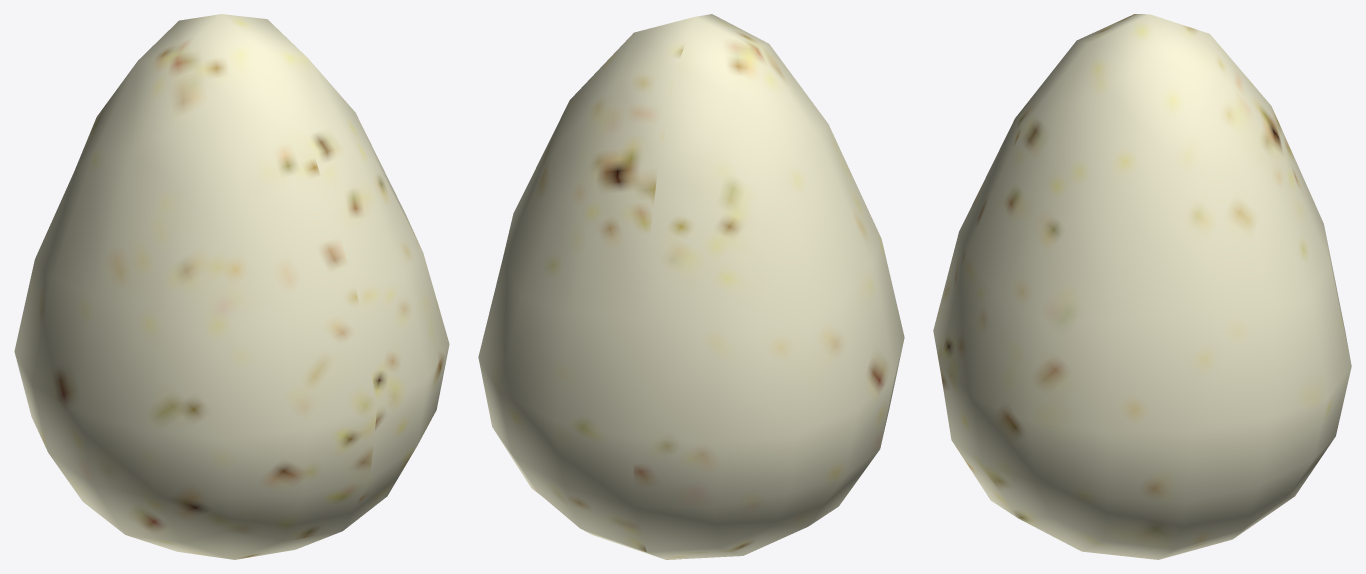
The model's file is SM_Props_BirdsEggs_03.obj.
The picture shows the model from 3 angles, left to right: view 1: azimuth 30°, elevation 25°; view 2: azimuth 150°, elevation 25°; view 3: azimuth 270°, elevation 25°; orthographic projection.
Parts seen in each view (by area): view 1: SM_Props_BirdsEggs_03_Mat_SwatchOverlay_Farm_Main_01_Inst; view 2: SM_Props_BirdsEggs_03_Mat_SwatchOverlay_Farm_Main_01_Inst; view 3: SM_Props_BirdsEggs_03_Mat_SwatchOverlay_Farm_Main_01_Inst.
Part boxes in pixels (<box>): SM_Props_BirdsEggs_03_Mat_SwatchOverlay_Farm_Main_01_Inst: <box>14,14,449,559</box>; SM_Props_BirdsEggs_03_Mat_SwatchOverlay_Farm_Main_01_Inst: <box>478,14,904,559</box>; SM_Props_BirdsEggs_03_Mat_SwatchOverlay_Farm_Main_01_Inst: <box>933,14,1351,559</box>.
Size of the model in its own units: 0.1353 by 0.1856 by 0.1353.
Materials: 1 (1 with a texture image).
